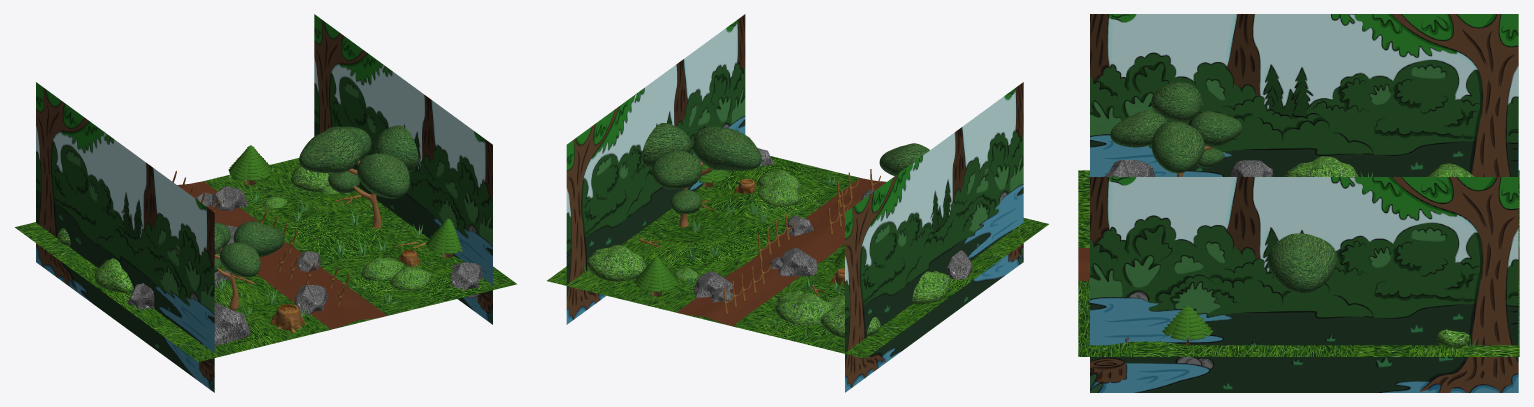
Rendered from envi hutan ke2.fbx.
The picture shows the model from 3 angles, left to right: view 1: azimuth 30°, elevation 25°; view 2: azimuth 150°, elevation 25°; view 3: azimuth 270°, elevation 25°; orthographic projection. The views are drawn at different scales.
Visible parts, largest first — view 1: Plane, Plane.002, Plane.001, Sphere.003, Plane.003, Sphere.002, Cube.007, Vert.002, semak.008, Vert.001, Cube.009, Cube.001 (+6 smaller); view 2: Plane, Plane.002, Plane.001, Plane.003, Sphere.003, semak.011, semak.002, Vert.002, Sphere.002, semak.008, Cube.013, semak.010 (+4 smaller); view 3: Plane.001, Plane, Plane.002, Sphere.002, Sphere.003, Vert.001, semak.008, Cube.007, Cube.008, semak.011, Plane.003, semak.004.
Part boxes in pixels (box(x1,y1,x2,y2)): Plane: box(36, 82, 214, 392); Plane.002: box(15, 158, 516, 361); Plane.001: box(314, 14, 492, 324); Sphere.003: box(299, 125, 418, 228); Plane.003: box(177, 181, 387, 330); Sphere.002: box(175, 221, 284, 310); Cube.007: box(214, 302, 250, 345); Vert.002: box(228, 145, 272, 185); semak.008: box(94, 258, 133, 293); Vert.001: box(426, 218, 462, 257); Cube.009: box(450, 262, 482, 298); Cube.001: box(294, 285, 327, 314); Plane: box(845, 82, 1023, 392); Plane.002: box(547, 156, 1048, 358); Plane.001: box(566, 14, 745, 324); Plane.003: box(676, 178, 886, 327); Sphere.003: box(642, 123, 761, 227); semak.011: box(587, 245, 646, 281); semak.002: box(775, 292, 832, 325); Vert.002: box(634, 256, 678, 296); Sphere.002: box(879, 143, 989, 177); semak.008: box(912, 271, 950, 303); Cube.013: box(778, 247, 817, 276); semak.010: box(757, 181, 800, 206); Plane.001: box(1090, 177, 1518, 392); Plane: box(1090, 14, 1518, 176); Plane.002: box(1078, 170, 1519, 356); Sphere.002: box(1110, 82, 1242, 176); Sphere.003: box(1268, 175, 1336, 293); Vert.001: box(1162, 305, 1213, 345); semak.008: box(1284, 156, 1358, 176); Cube.007: box(1104, 160, 1155, 176); Cube.008: box(1231, 160, 1272, 176); semak.011: box(1437, 329, 1469, 348); Plane.003: box(1078, 248, 1519, 280); semak.004: box(1428, 163, 1474, 176).
Bounding box in the file's own units: 1146 × 590 × 1093.
22 materials, 15 textured.
